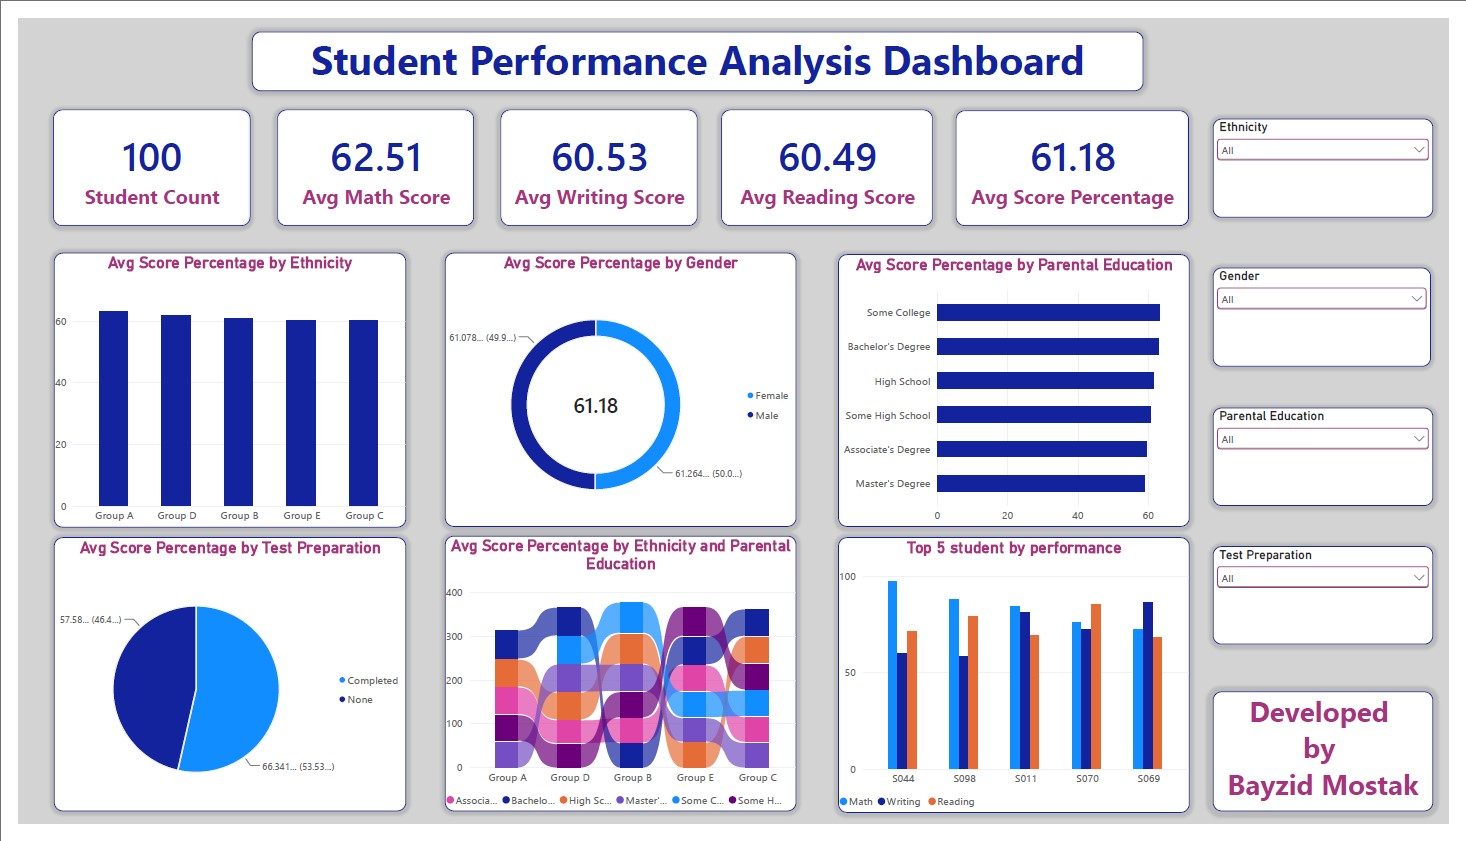

The dashboard page shown, as its layout file describes it:
{"tool":"powerbi","page":{"name":"Page 1","canvas":[1920,1080],"ordinal":0},"visuals":[{"type":"textbox","box":[313.3,16.7,1196.7,80],"z":0},{"type":"cardVisual","fields":{"Data":["CountNonNull(Sheet1.Student ID)"]},"box":[46.5,121.7,264.5,156.7],"z":1000},{"type":"cardVisual","fields":{"Data":["Avg(Sheet1.Math Score)"]},"box":[346.7,121.7,264.5,156.7],"z":2000},{"type":"cardVisual","fields":{"Data":["Avg(Sheet1.Writing Score)"]},"box":[646.7,121.7,264.5,156.7],"z":3000},{"type":"cardVisual","fields":{"Data":["Avg(Sheet1.Reading Score)"]},"box":[943.3,121.7,284.1,156.7],"z":4000},{"type":"cardVisual","fields":{"Data":["Avg(Sheet1.Score Percentage)"]},"box":[1258.3,123.3,312.5,155],"z":5000},{"type":"slicer","fields":{"Values":["Sheet1.Ethnicity"]},"box":[1603.3,134.4,295.6,132.2],"z":6000},{"type":"slicer","fields":{"Values":["Sheet1.Gender"]},"box":[1603.3,334.4,292.2,132.2],"z":7000},{"type":"slicer","fields":{"Values":["Sheet1.Parental Education"]},"box":[1603.3,522.2,295.6,132.2],"z":8000},{"type":"columnChart","fields":{"Category":["Sheet1.Ethnicity"],"Y":["Avg(Sheet1.Score Percentage)"]},"box":[47.1,314.3,472.9,368.6],"z":9000},{"type":"donutChart","fields":{"Category":["Sheet1.Gender"],"Y":["Avg(Sheet1.Score Percentage)"]},"box":[572,314,472,368],"z":10000},{"type":"clusteredBarChart","fields":{"Y":["Avg(Sheet1.Score Percentage)"],"Category":["Sheet1.Parental Education"]},"box":[1100,316,472,366],"z":11000},{"type":"pieChart","fields":{"Y":["Avg(Sheet1.Score Percentage)"],"Category":["Sheet1.Test Preparation"]},"box":[47.1,695.7,472.9,368.6],"z":12000},{"type":"ribbonChart","fields":{"Y":["Avg(Sheet1.Score Percentage)"],"Series":["Sheet1.Parental Education"],"Category":["Sheet1.Ethnicity"]},"box":[572,694,472,370],"z":13000},{"type":"slicer","fields":{"Values":["Sheet1.Test Preparation"]},"box":[1603.3,707.8,295.6,132.2],"z":14000},{"type":"clusteredColumnChart","title":"Top 5 student by performance","fields":{"Y":["Sum(Sheet1.Math Score)","Sum(Sheet1.Writing Score)","Sum(Sheet1.Reading Score)"],"Category":["Sheet1.Student ID"]},"box":[1100,696,472,370],"z":15000},{"type":"textbox","box":[1602.9,902.9,295.7,161.4],"z":16000}]}

Visuals, with their boxes in screenshot pixels (x1, y1, x2, y2), scaled from the page's 1920x1080 canvas onto the 1466x841 screenshot:
textbox: {"left": 239, "top": 13, "right": 1153, "bottom": 75}
cardVisual - CountNonNull(Sheet1.Student ID): {"left": 36, "top": 95, "right": 237, "bottom": 217}
cardVisual - Avg(Sheet1.Math Score): {"left": 265, "top": 95, "right": 467, "bottom": 217}
cardVisual - Avg(Sheet1.Writing Score): {"left": 494, "top": 95, "right": 696, "bottom": 217}
cardVisual - Avg(Sheet1.Reading Score): {"left": 720, "top": 95, "right": 937, "bottom": 217}
cardVisual - Avg(Sheet1.Score Percentage): {"left": 961, "top": 96, "right": 1199, "bottom": 217}
slicer - Sheet1.Ethnicity: {"left": 1224, "top": 105, "right": 1450, "bottom": 208}
slicer - Sheet1.Gender: {"left": 1224, "top": 260, "right": 1447, "bottom": 363}
slicer - Sheet1.Parental Education: {"left": 1224, "top": 407, "right": 1450, "bottom": 510}
columnChart - Sheet1.Ethnicity x Avg(Sheet1.Score Percentage): {"left": 36, "top": 245, "right": 397, "bottom": 532}
donutChart - Sheet1.Gender x Avg(Sheet1.Score Percentage): {"left": 437, "top": 245, "right": 797, "bottom": 531}
clusteredBarChart - Avg(Sheet1.Score Percentage) x Sheet1.Parental Education: {"left": 840, "top": 246, "right": 1200, "bottom": 531}
pieChart - Avg(Sheet1.Score Percentage) x Sheet1.Test Preparation: {"left": 36, "top": 542, "right": 397, "bottom": 829}
ribbonChart - Avg(Sheet1.Score Percentage) x Sheet1.Parental Education: {"left": 437, "top": 540, "right": 797, "bottom": 829}
slicer - Sheet1.Test Preparation: {"left": 1224, "top": 551, "right": 1450, "bottom": 654}
"Top 5 student by performance" clusteredColumnChart: {"left": 840, "top": 542, "right": 1200, "bottom": 830}
textbox: {"left": 1224, "top": 703, "right": 1450, "bottom": 829}
